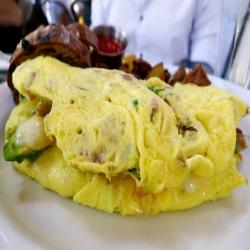bread: (8, 23, 101, 74)
ketchup: (81, 23, 132, 65)
omelette: (4, 53, 247, 222)
